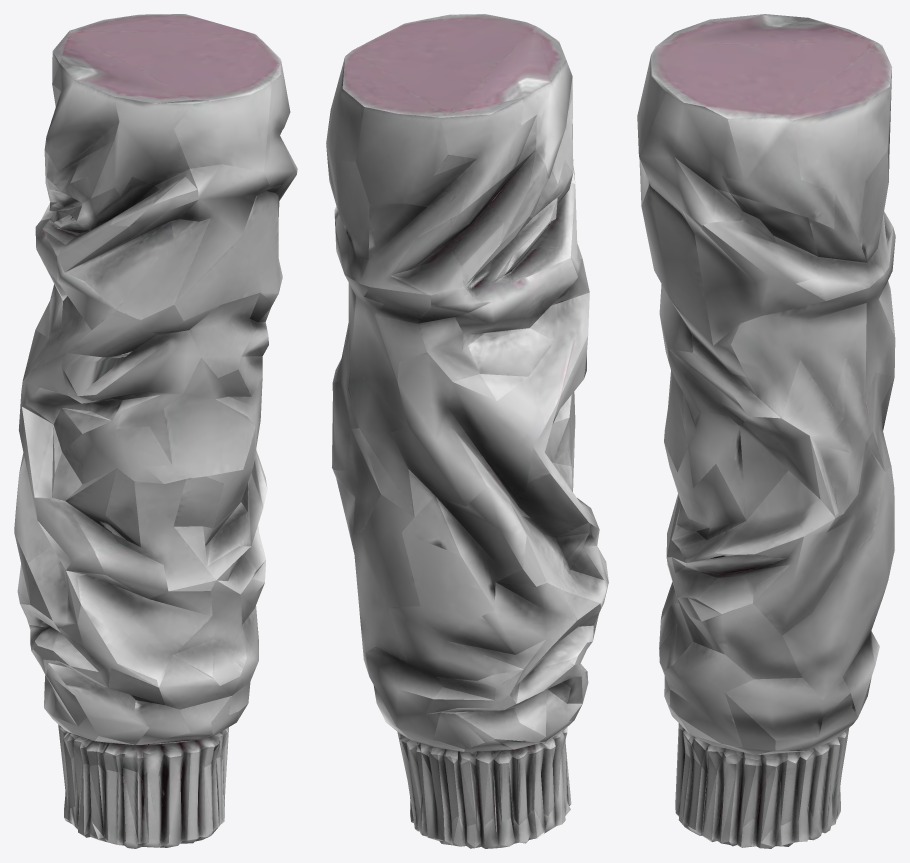
Rendered from arm_hoodie.glb.
3 renders of one model, left to right at view 1: azimuth 30°, elevation 25°; view 2: azimuth 150°, elevation 25°; view 3: azimuth 270°, elevation 25°, orthographic.
Bounding box in the file's own units: 0.3371 × 1 × 0.3029.
1 material, 1 textured.
